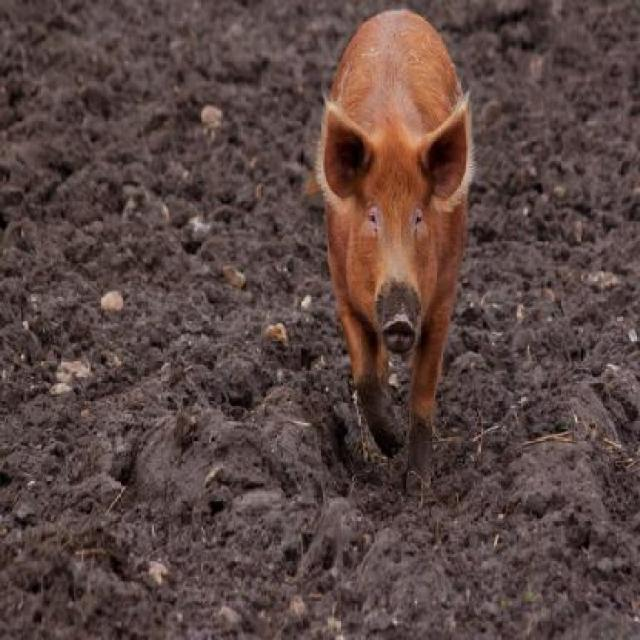pig: (304, 9, 473, 498)
